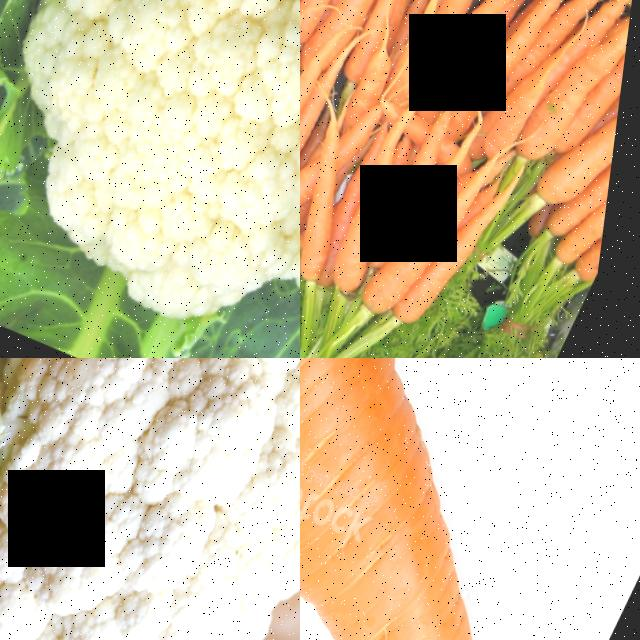carrot: (300, 358, 640, 640), (322, 97, 433, 296), (371, 144, 479, 338), (413, 154, 521, 341), (367, 91, 470, 276), (526, 0, 629, 165), (455, 0, 568, 138), (422, 0, 531, 115), (561, 0, 635, 167), (300, 0, 422, 82), (388, 0, 467, 103), (300, 175, 363, 300), (339, 0, 430, 82), (300, 46, 346, 201), (491, 52, 556, 154), (549, 199, 614, 296), (300, 26, 332, 199), (558, 115, 622, 201), (300, 131, 344, 244), (552, 164, 611, 248), (347, 44, 403, 131), (300, 0, 362, 36)
cauliflower: (0, 0, 300, 358), (0, 358, 300, 640)
